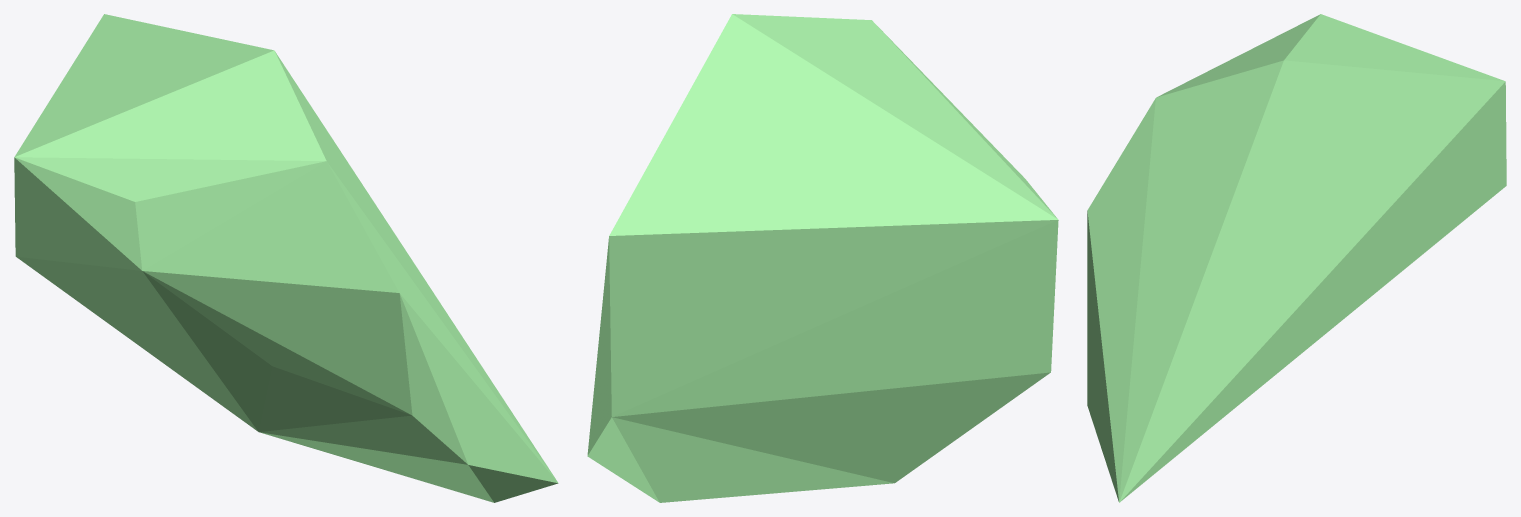
File: panda_link7_resp_coll_7.dae
3 views of the same model, side by side, from view 1: azimuth 30°, elevation 25°; view 2: azimuth 150°, elevation 25°; view 3: azimuth 270°, elevation 25° (orthographic). The views are drawn at different scales.
Visible parts, largest first — view 1: node; view 2: node; view 3: node.
Boxes of the visible parts, x1=… form: node: x1=14, y1=14, x2=558, y2=502; node: x1=587, y1=14, x2=1058, y2=502; node: x1=1087, y1=14, x2=1506, y2=502.
Size of the model in its own units: 0.0615 by 0.0578 by 0.0592.
